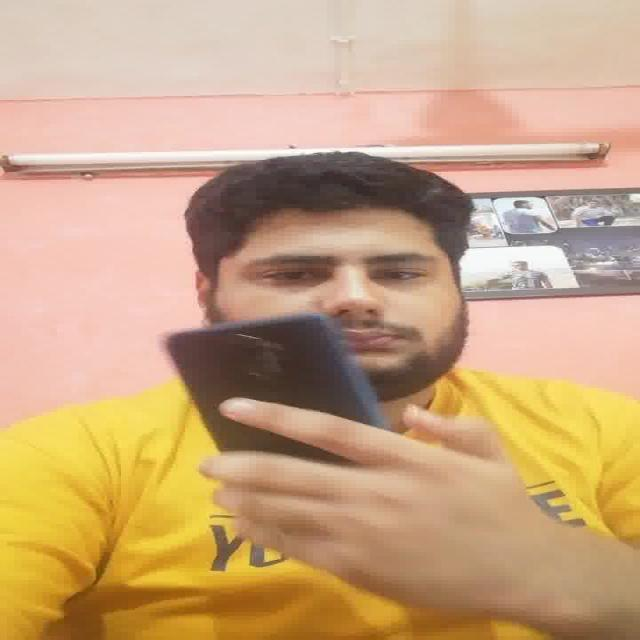Phone: (161, 310, 382, 467)
